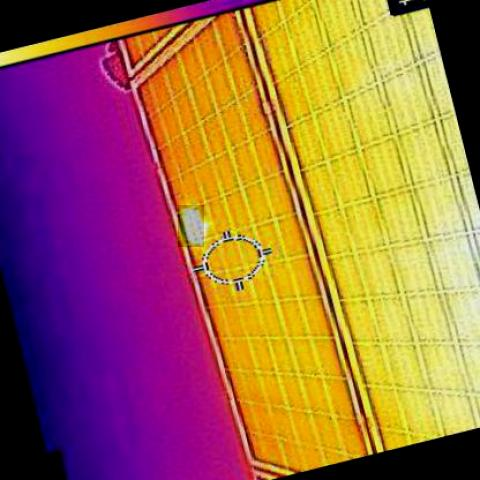fault: (178, 205, 204, 247)
